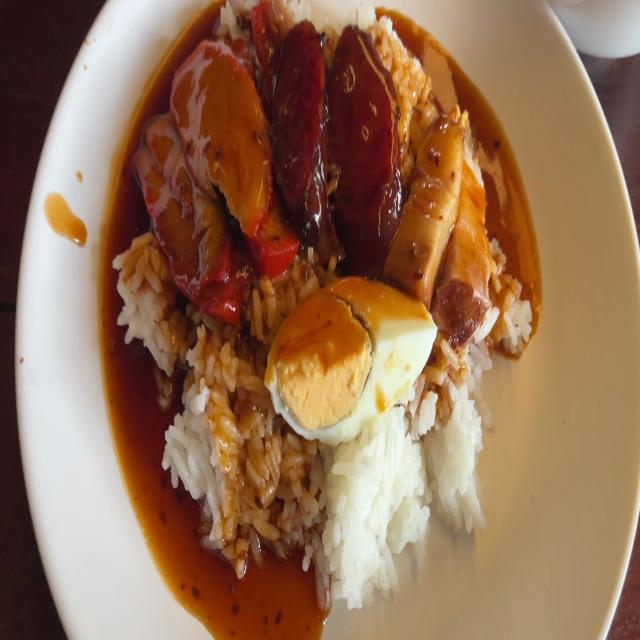01boiled_egg: (275, 288, 435, 432)
01chainese_sausage: (280, 22, 404, 284), (338, 26, 398, 257), (274, 28, 324, 230)
01crispy_pork: (399, 118, 485, 331), (400, 130, 456, 286), (445, 157, 498, 320)
01red_pork: (134, 36, 289, 314), (168, 38, 298, 270), (140, 106, 236, 329)
01red_pork_and_crispy_pork: (123, 0, 536, 596)
01rice: (285, 429, 431, 603), (168, 340, 278, 558), (113, 223, 183, 357), (428, 383, 494, 522), (484, 270, 533, 362)
